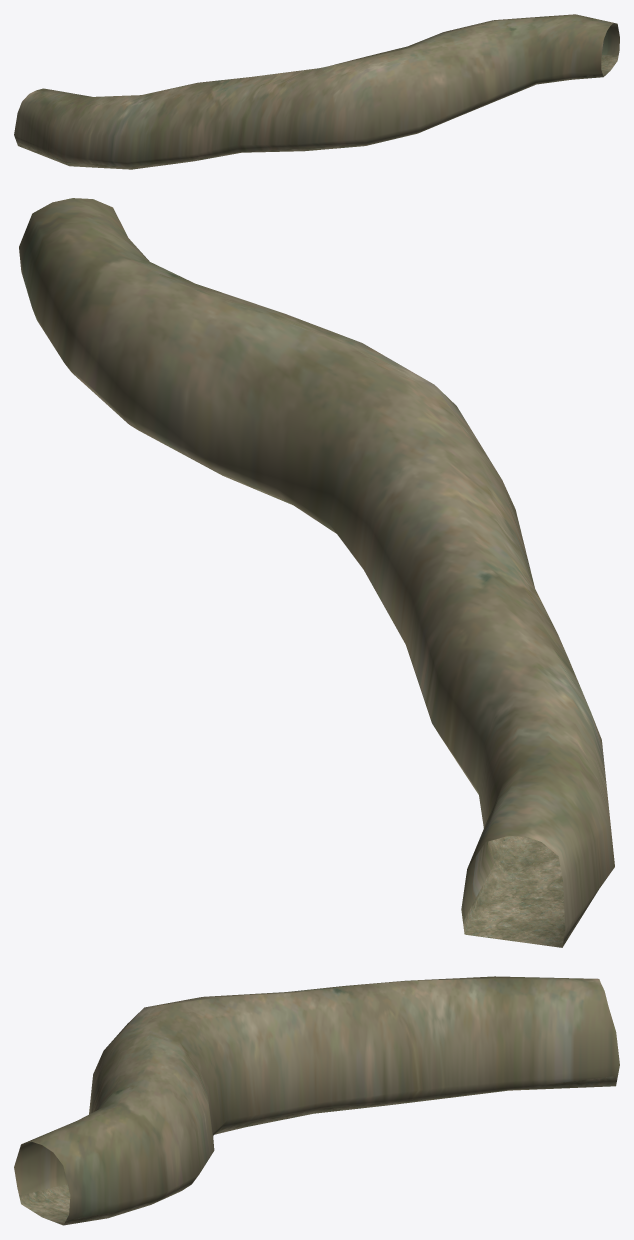
The model's file is EKH_GROTTO_PS_GR_TUNNEL02.fbx.
3 renders of one model, top to bottom at view 1: azimuth 30°, elevation 25°; view 2: azimuth 150°, elevation 25°; view 3: azimuth 270°, elevation 25°, orthographic. The views are drawn at different scales.
Parts seen in each view (by area): view 1: EKH_GROTTO_PS_GR_TUNNEL02; view 2: EKH_GROTTO_PS_GR_TUNNEL02; view 3: EKH_GROTTO_PS_GR_TUNNEL02.
Boxes of the visible parts, x1,y1,x2,y2 form: EKH_GROTTO_PS_GR_TUNNEL02: (14, 14, 619, 169); EKH_GROTTO_PS_GR_TUNNEL02: (19, 198, 614, 947); EKH_GROTTO_PS_GR_TUNNEL02: (14, 976, 619, 1225).
Bounding box in the file's own units: 196952 × 64179 × 146379.
1 material, 1 textured.
